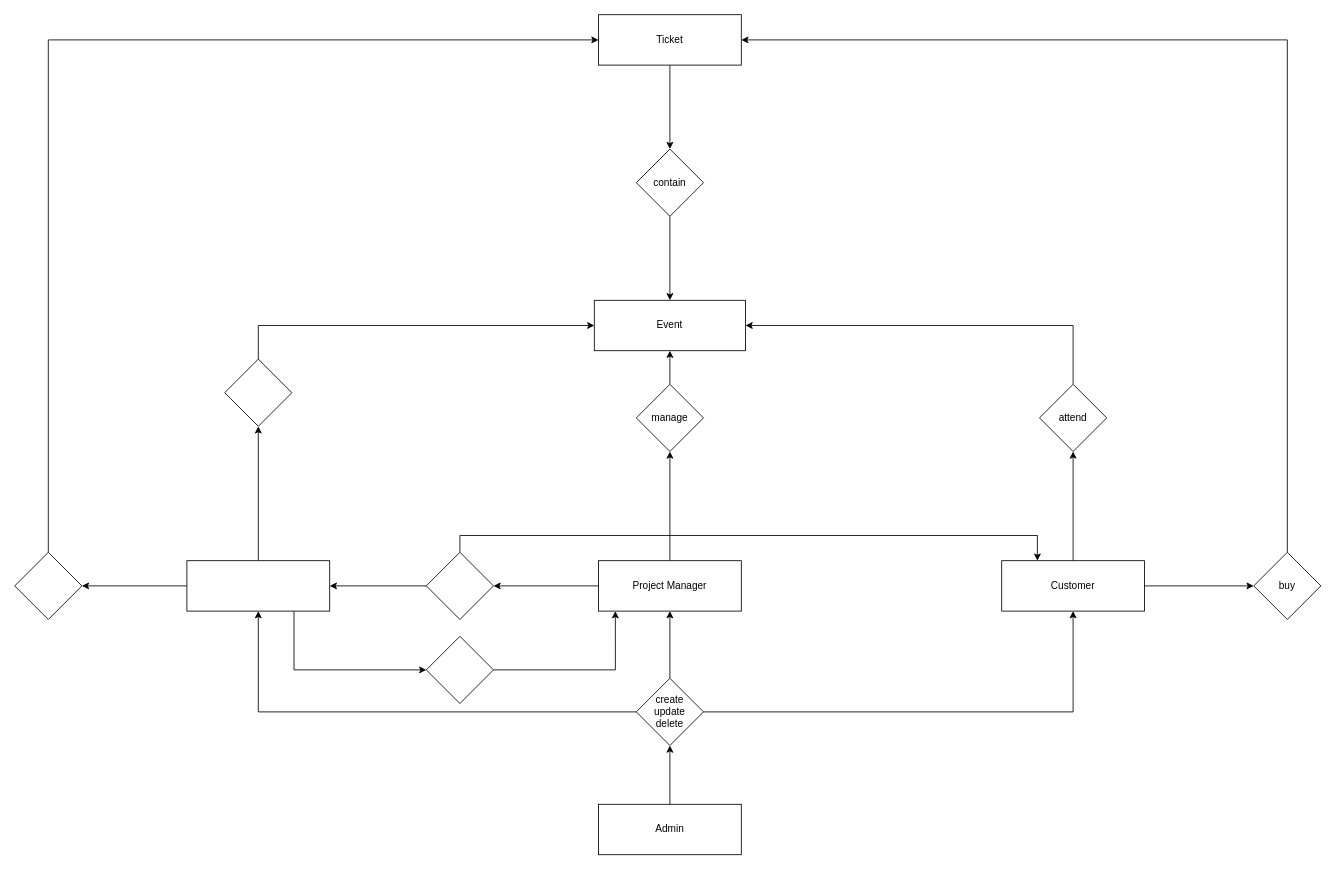
The diagram is 1336 pixels wide and 869 high, and some of its shapes have lost their labels. Here are the shapes that lost their labels. From the top down, the centre of each, then its label:
the point at 258,392: create
the point at 48,585: price
the point at 258,585: Service Provider
the point at 459,585: connect with
the point at 459,669: hire
